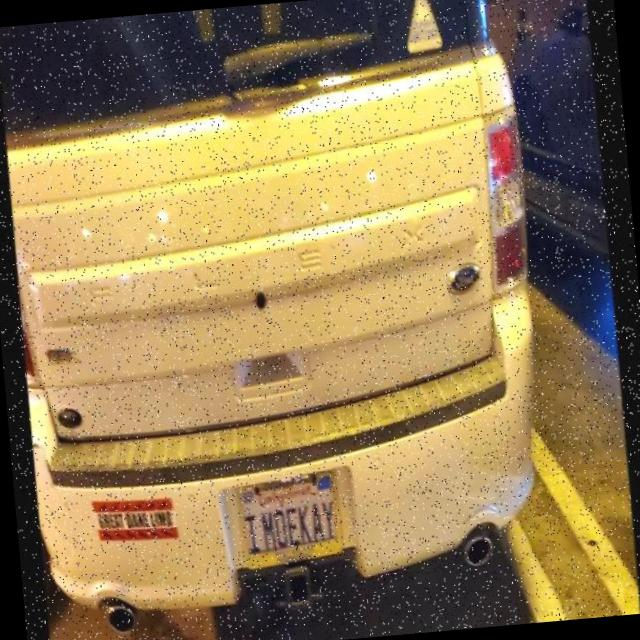LicensePlate: (224, 461, 356, 584)
